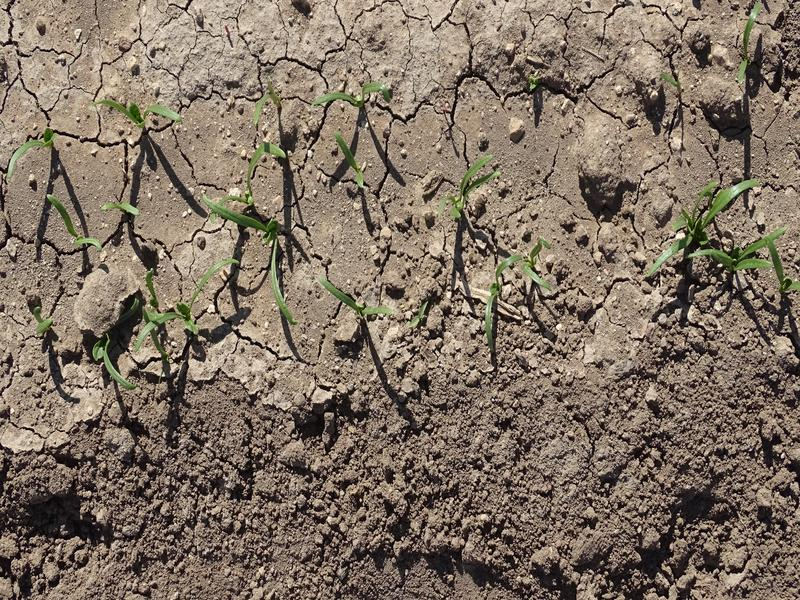Espinaca: (204, 195, 308, 320), (667, 184, 788, 275), (142, 261, 236, 340), (479, 244, 549, 337), (316, 275, 407, 324), (36, 192, 109, 253), (94, 99, 187, 133), (328, 132, 373, 194), (9, 131, 71, 175), (315, 84, 388, 121), (92, 337, 141, 392), (244, 134, 290, 175), (738, 6, 760, 77), (104, 198, 142, 220)
